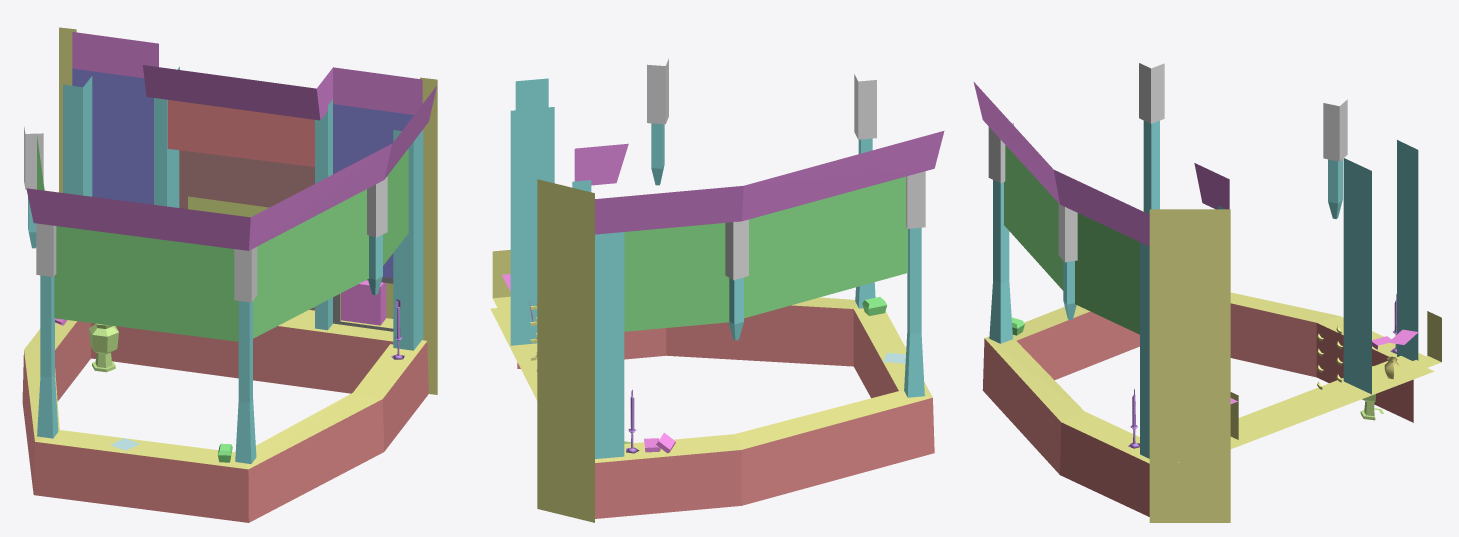
Rendered from interior_B_delf_store_13.gltf.
The picture shows the model from 3 angles, left to right: view 1: azimuth 30°, elevation 25°; view 2: azimuth 150°, elevation 25°; view 3: azimuth 270°, elevation 25°; orthographic projection. The views are drawn at different scales.
Visible parts, largest first — view 1: interior_B_delf_store_13; view 2: interior_B_delf_store_13; view 3: interior_B_delf_store_13.
Boxes of the visible parts, box(x1,y1,x2,y2) form: interior_B_delf_store_13: box(22, 27, 437, 522); interior_B_delf_store_13: box(490, 59, 944, 522); interior_B_delf_store_13: box(973, 63, 1441, 522).
Bounding box in the file's own units: 2.25 × 1.63 × 2.22.
